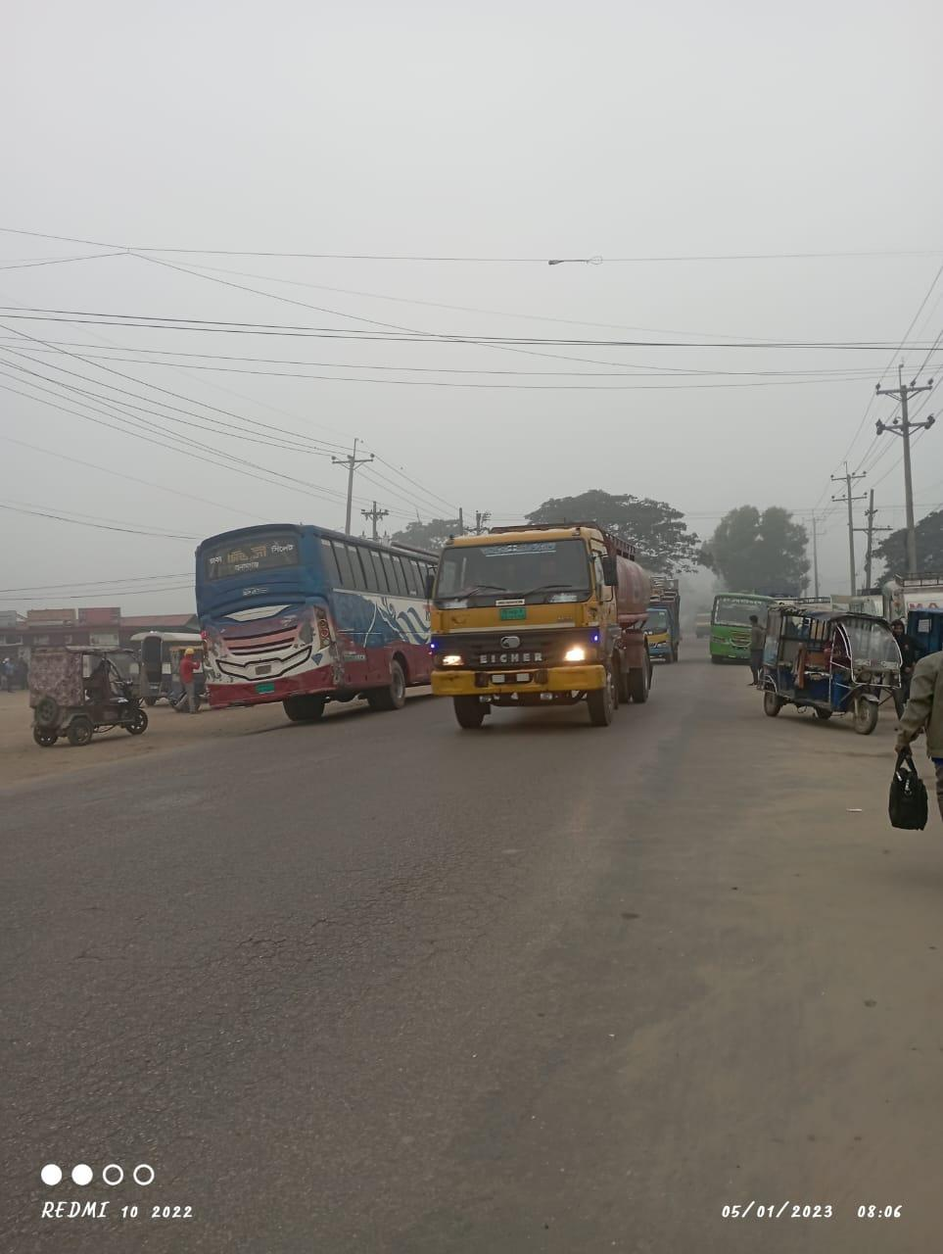Bus: (184, 517, 436, 716), (702, 581, 784, 673)
Car: (749, 593, 909, 738), (24, 632, 158, 745)
Truck: (416, 518, 660, 729)
